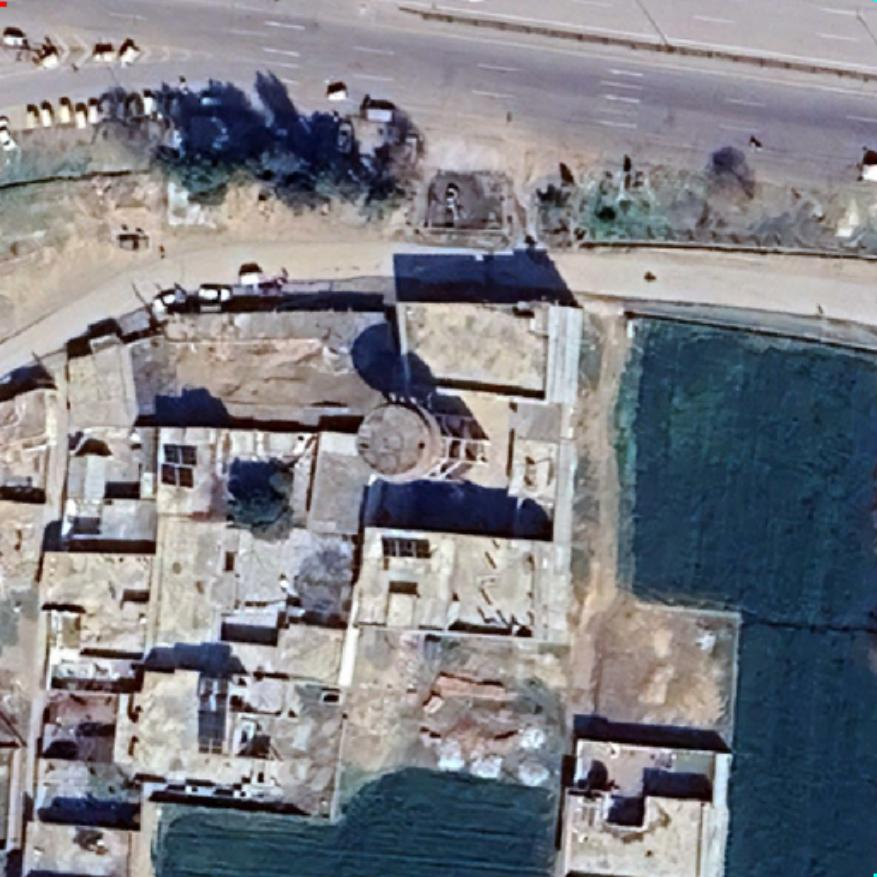Solarpanel: (192, 670, 234, 758), (157, 439, 201, 493), (377, 532, 435, 564)
